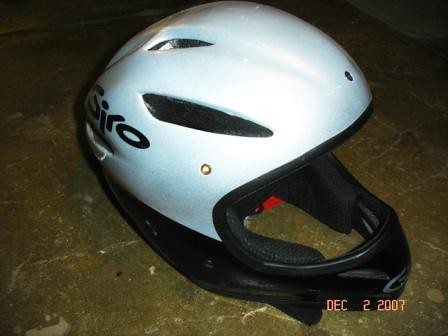helmet: (78, 3, 366, 210)
